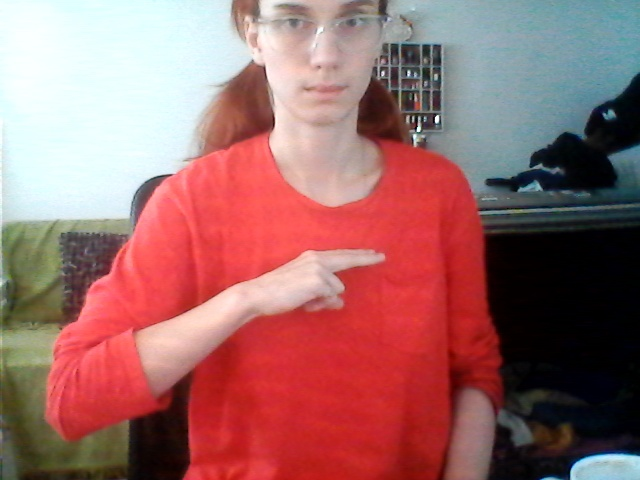frajer: (267, 233, 391, 324)
